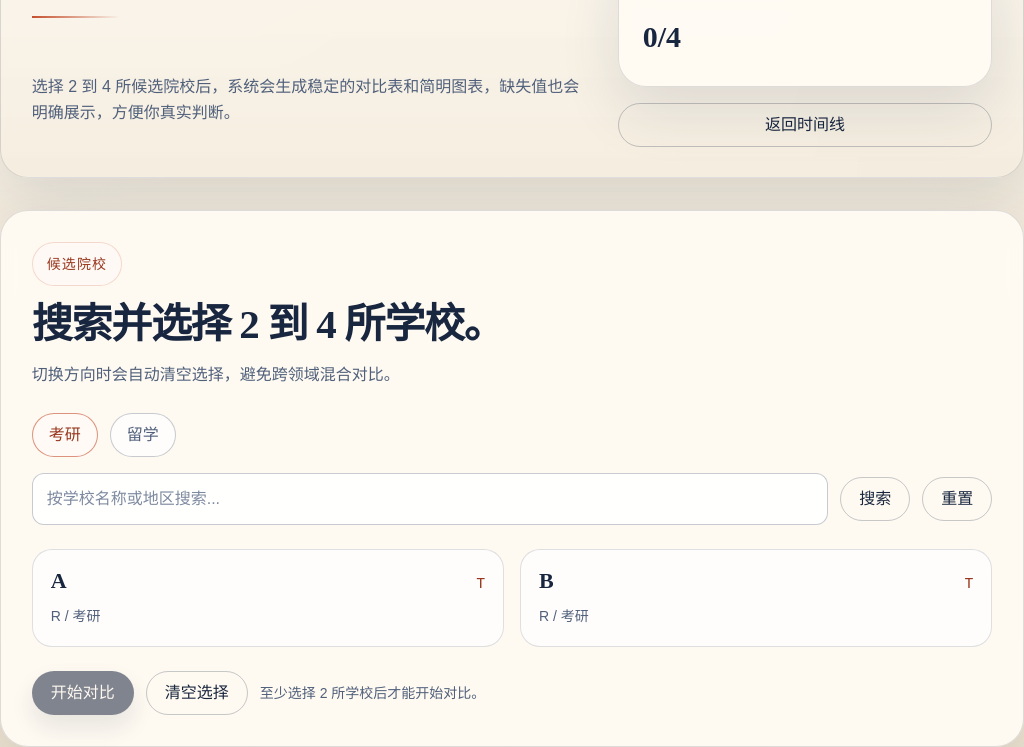
Scenario: renders an explicit empty-chart state when chartSeries is empty
The image size is (1024, 747).
(page scrolled)
Click the button with class "candidate-card" showing "A T R / 考研". click: (76, 616)
box: [32,549,504,647]
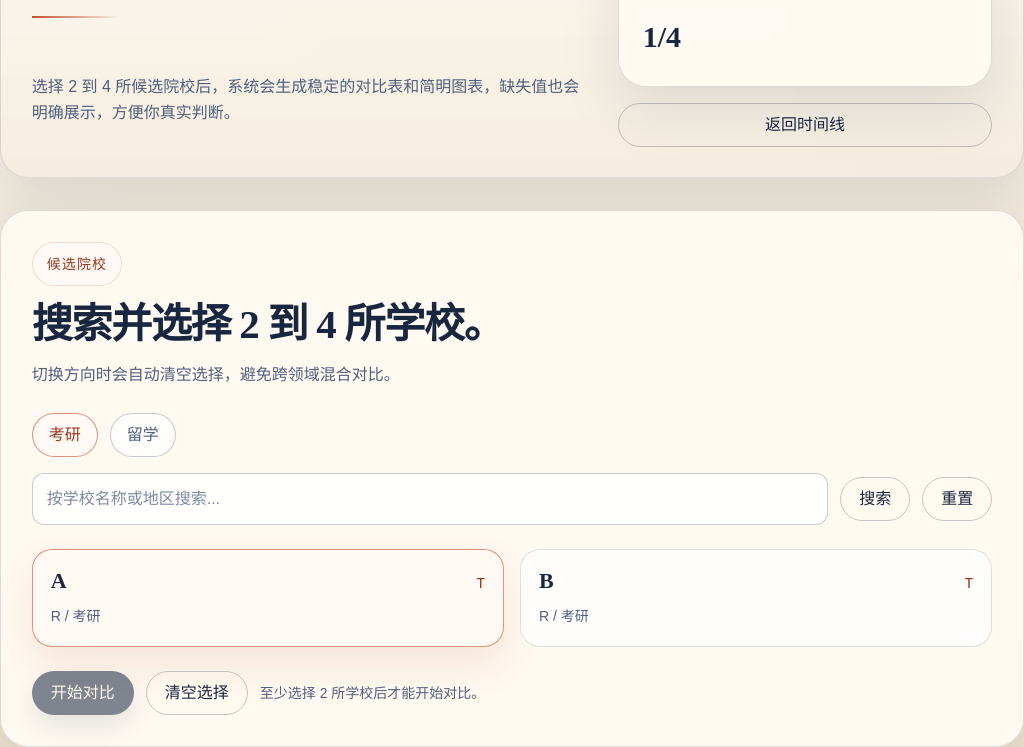
Click the button with class "candidate-card" showing "B T R / 考研". click: (564, 616)
box: [520,549,992,647]
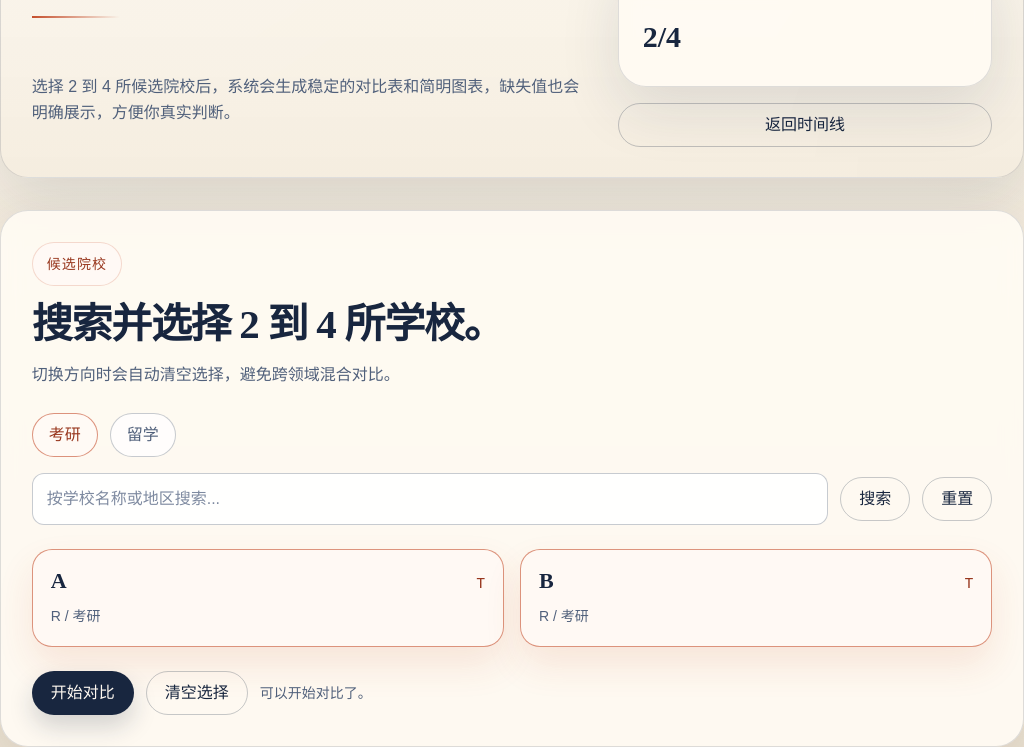
Click the button with test id "compare-submit". click: (83, 693)
box: [32,671,134,715]
(page scrolled)
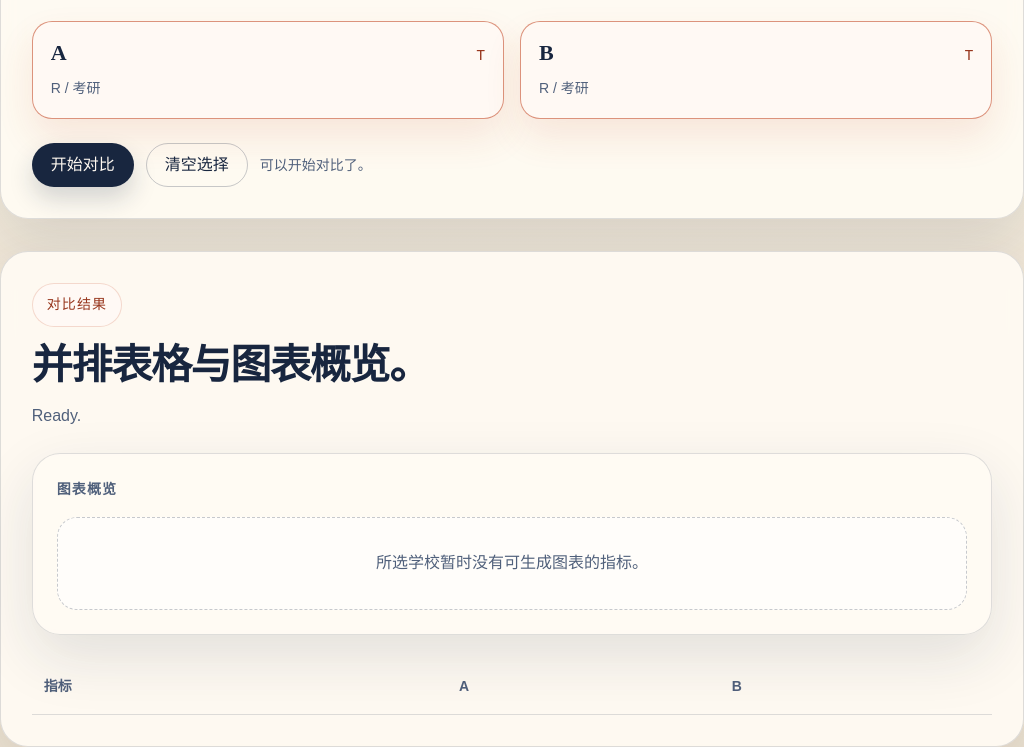
Check: the element with test id "chart-panel" is shown, box [32,453,992,635]
Check: the text "所选学校暂时没有可生成图表的指标。" is shown, box [57,518,967,610]
Check: the text "图表概览" is shown, box [32,342,429,388]
